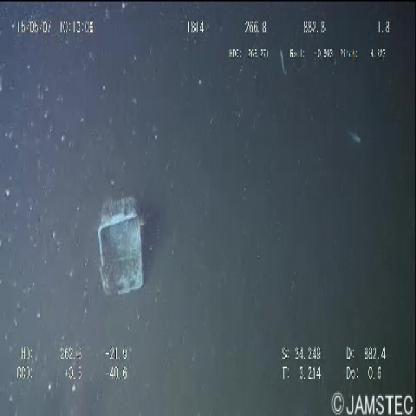Rác: (98, 198, 145, 298)
